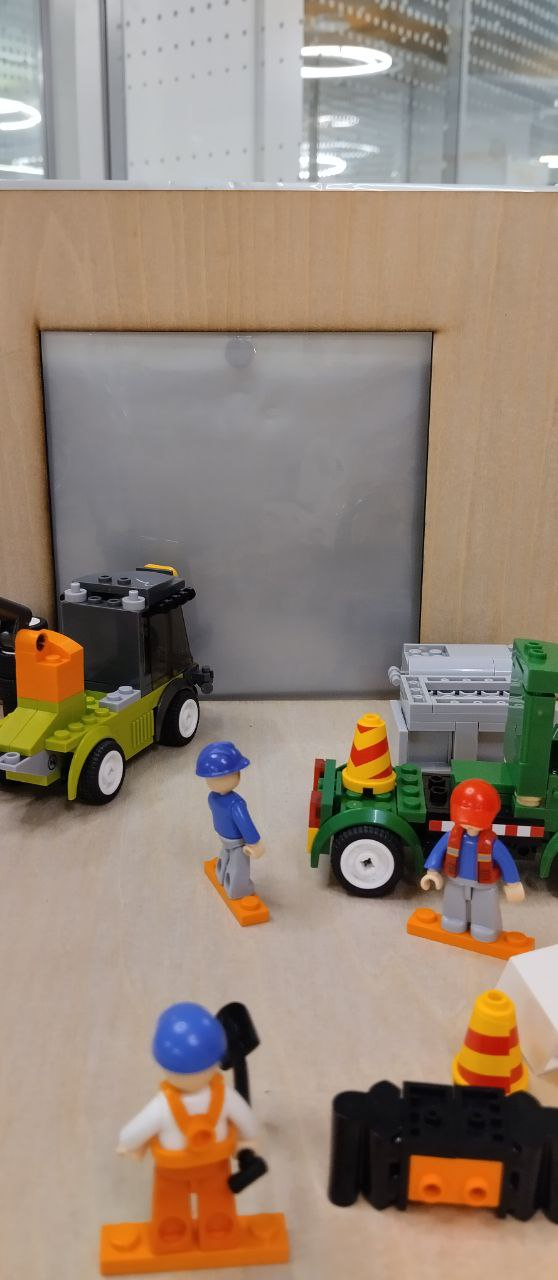Cone: (455, 988, 524, 1092), (336, 711, 395, 799)
Crane: (0, 546, 212, 808)
Object Black: (331, 1078, 558, 1221)
Truck: (303, 637, 557, 898)
